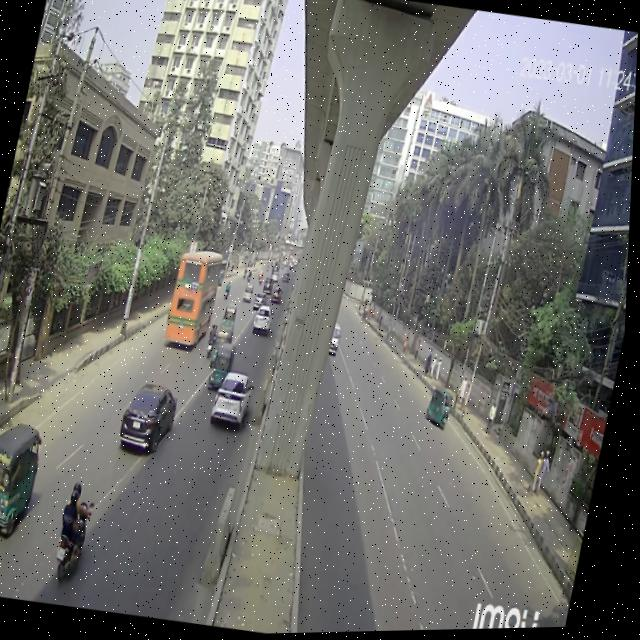cng: (0, 414, 57, 550), (423, 378, 463, 439), (210, 334, 243, 394), (218, 300, 243, 343)
